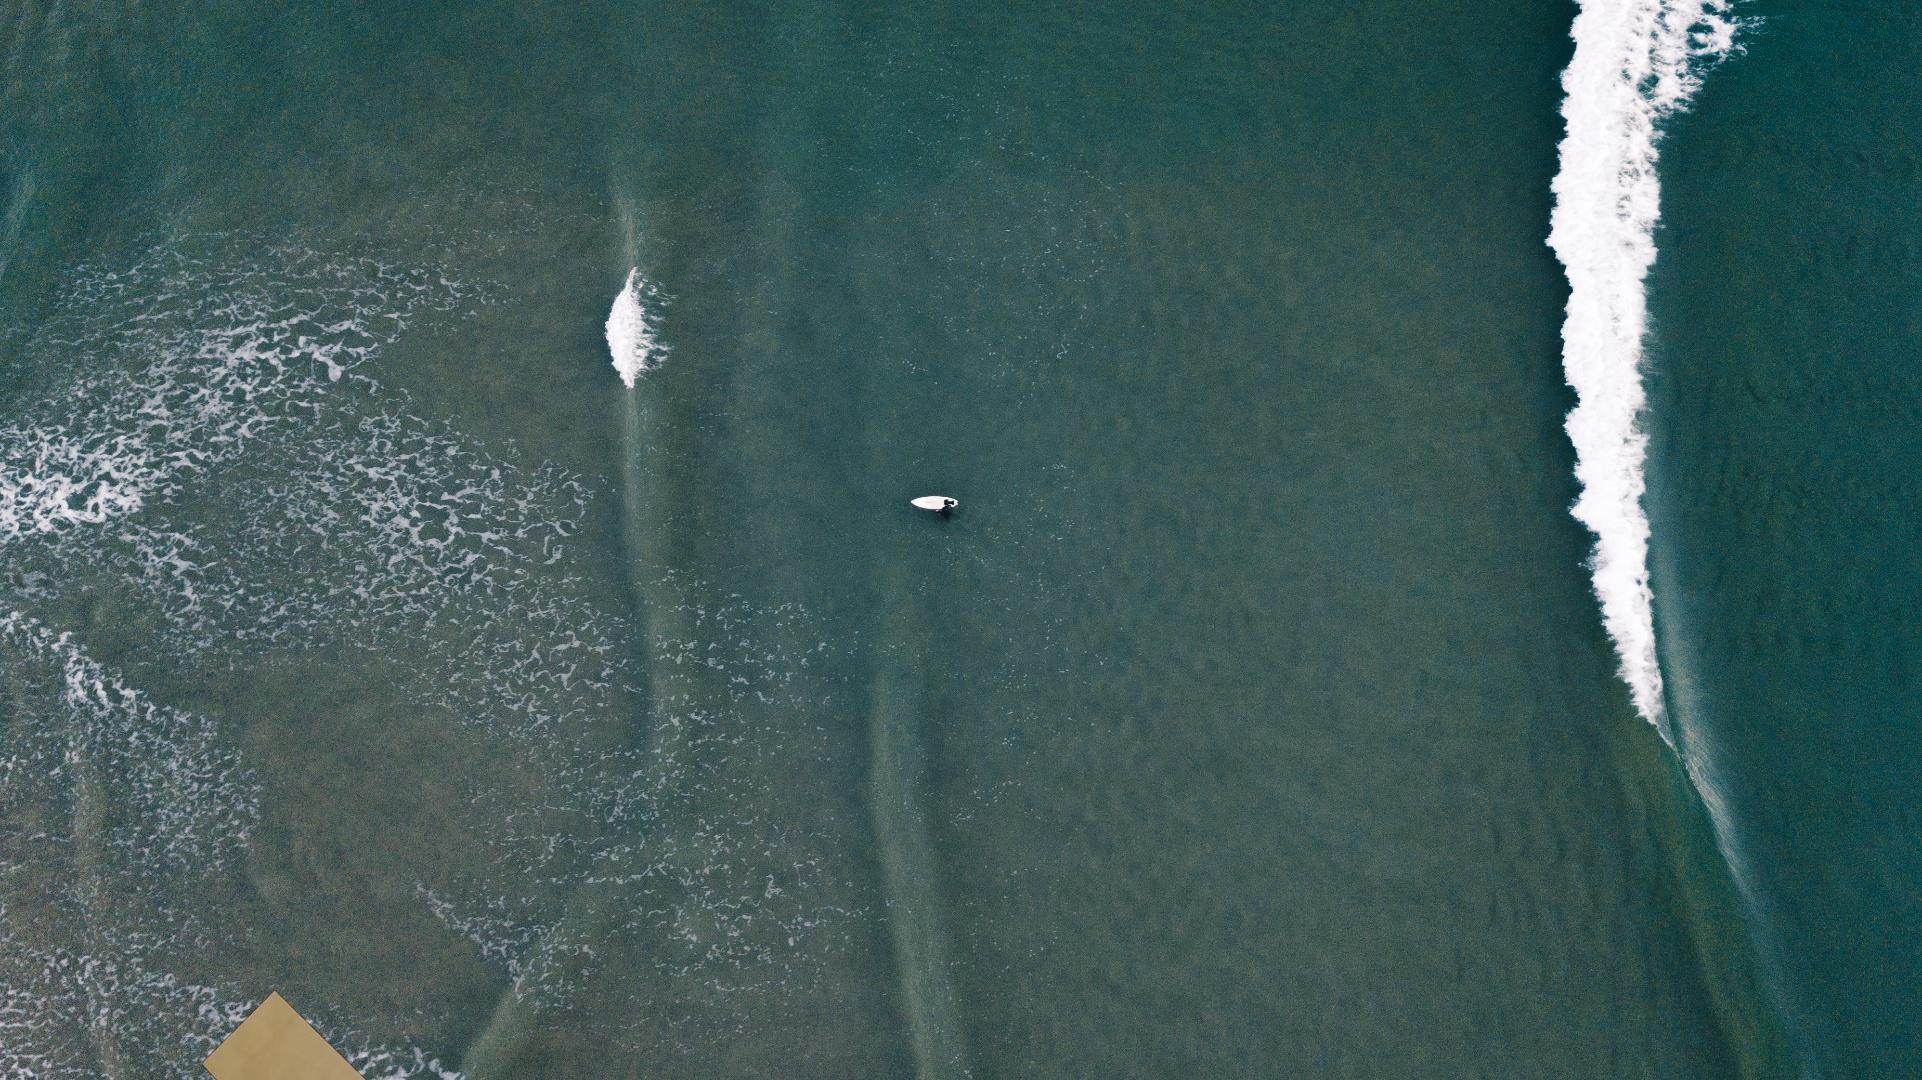paper-bag: (199, 989, 392, 1080)
penholder: (1492, 1025, 1922, 1080)
